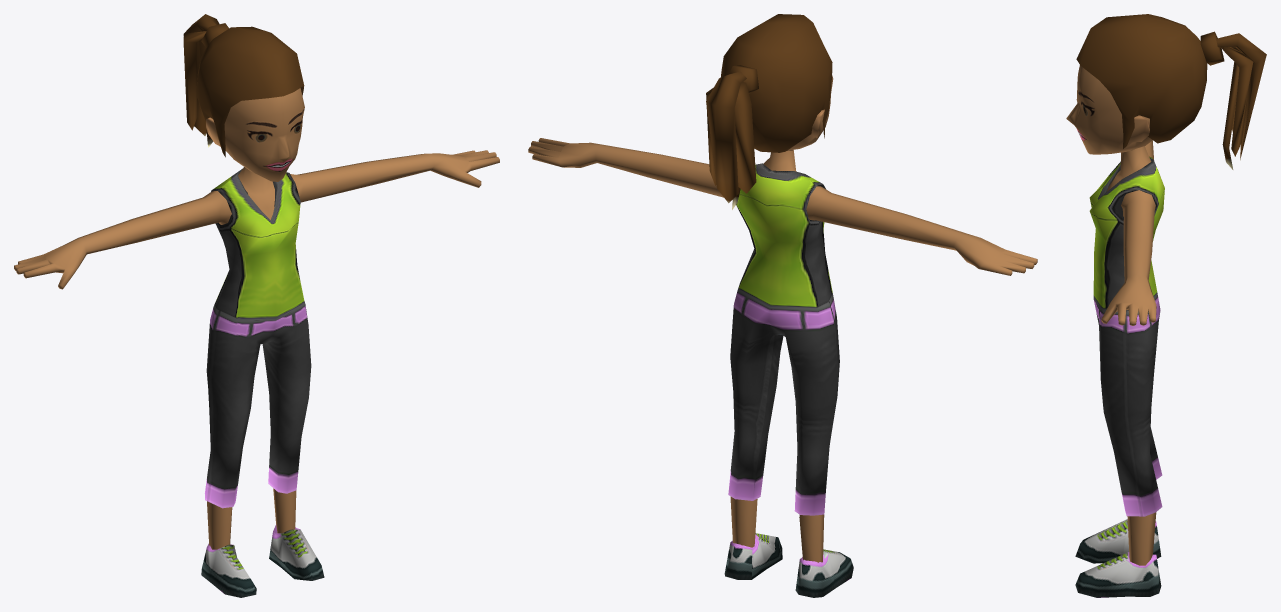
Rendered from human.glb.
3 views of the same model, side by side, from view 1: azimuth 30°, elevation 25°; view 2: azimuth 150°, elevation 25°; view 3: azimuth 270°, elevation 25° (orthographic). The views are drawn at different scales.
Parts seen in each view (by area): view 1: M2_cloths.4, M2_armsHead.2, M2_hair.3; view 2: M2_cloths.4, M2_hair.3, M2_armsHead.2; view 3: M2_cloths.4, M2_hair.3, M2_armsHead.2.
Boxes of the visible parts, x1,y1,x2,y2 form: M2_cloths.4: (201,168,324,597); M2_armsHead.2: (14,88,499,549); M2_hair.3: (183,14,304,157); M2_cloths.4: (724,163,853,597); M2_hair.3: (706,14,832,209); M2_armsHead.2: (528,75,1037,562); M2_cloths.4: (1075,156,1164,597); M2_hair.3: (1076,14,1266,169); M2_armsHead.2: (1066,65,1156,565).
Size of the model in its own units: 1.62 by 1.72 by 0.5646.
3 materials, 3 textured.
